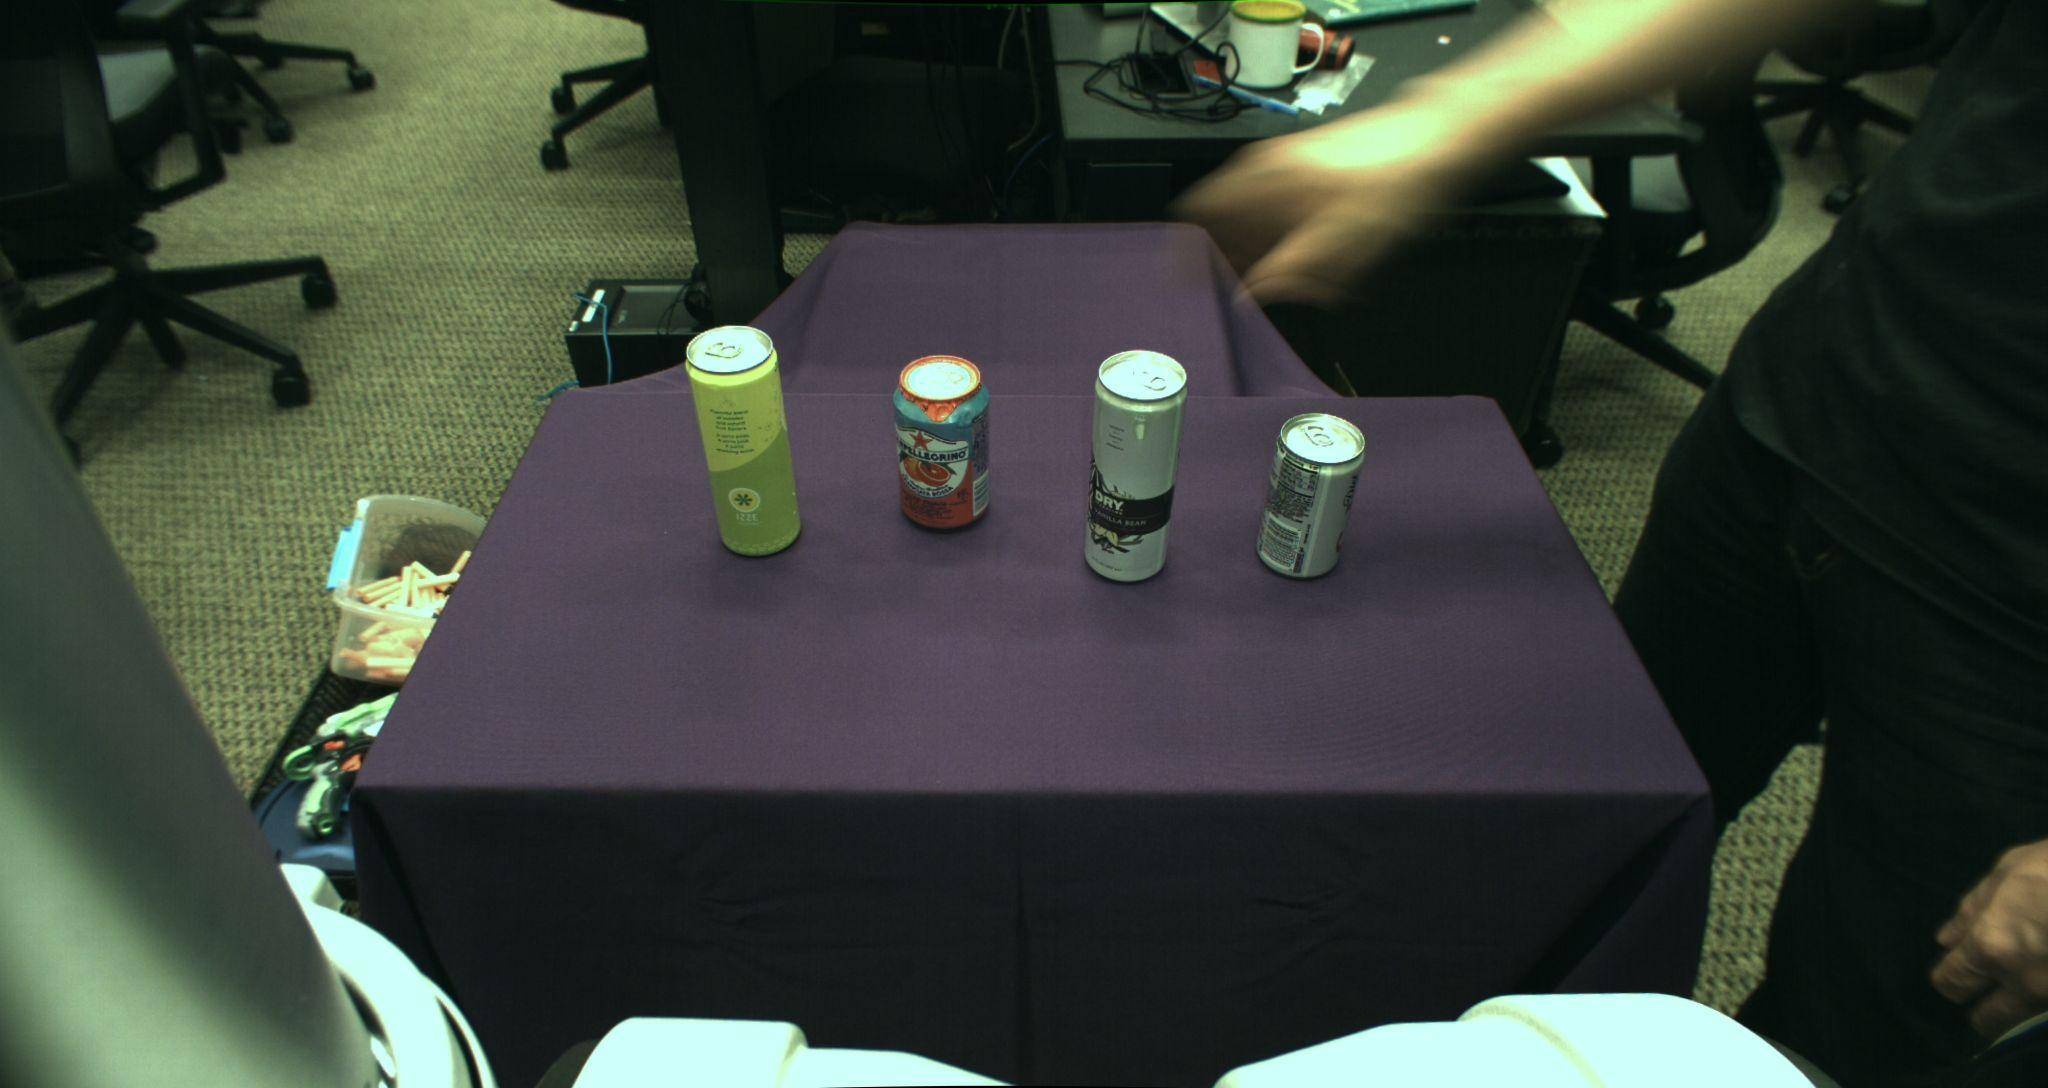can_diet_coke_small: (1256, 412, 1365, 580)
can_dry_sparkling_vanilla_bean: (1085, 348, 1187, 584)
can_izze_fusions_lemon_lime: (685, 322, 801, 560)
can_sanpellegrino_blood_orange: (891, 352, 990, 530)
